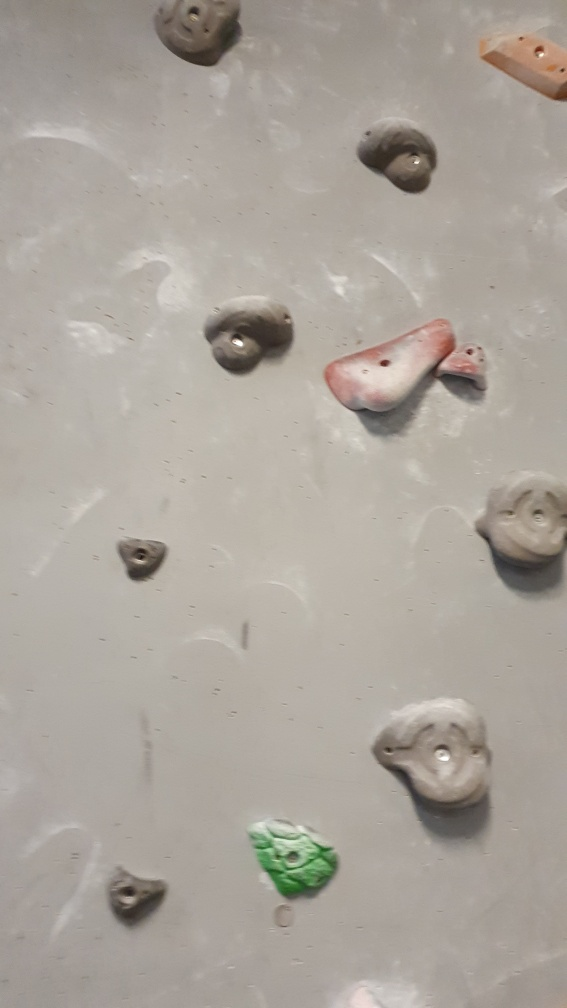Crimp: (116, 531, 170, 585)
Hand Start: (270, 898, 295, 931)
Jug: (367, 695, 497, 819), (472, 465, 567, 571), (202, 295, 296, 379), (356, 113, 442, 199)
Pinch: (476, 27, 567, 103)
